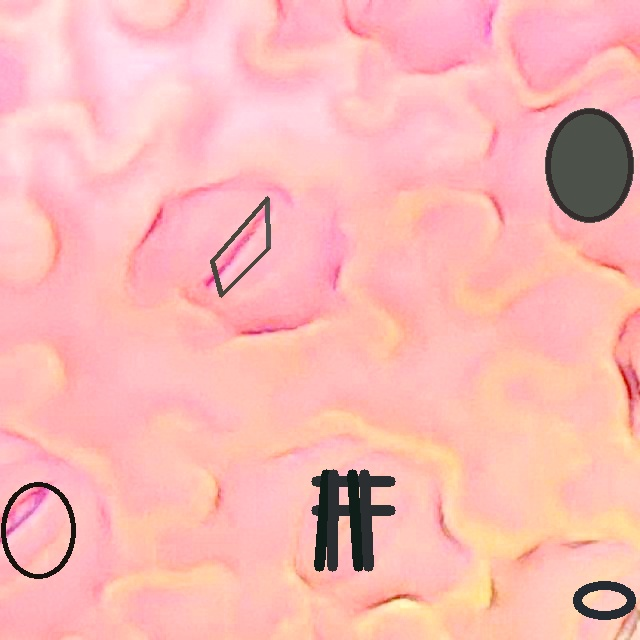close: (546, 108, 633, 222), (312, 470, 394, 570)
open: (1, 481, 76, 579), (210, 196, 270, 297), (574, 580, 635, 621)
